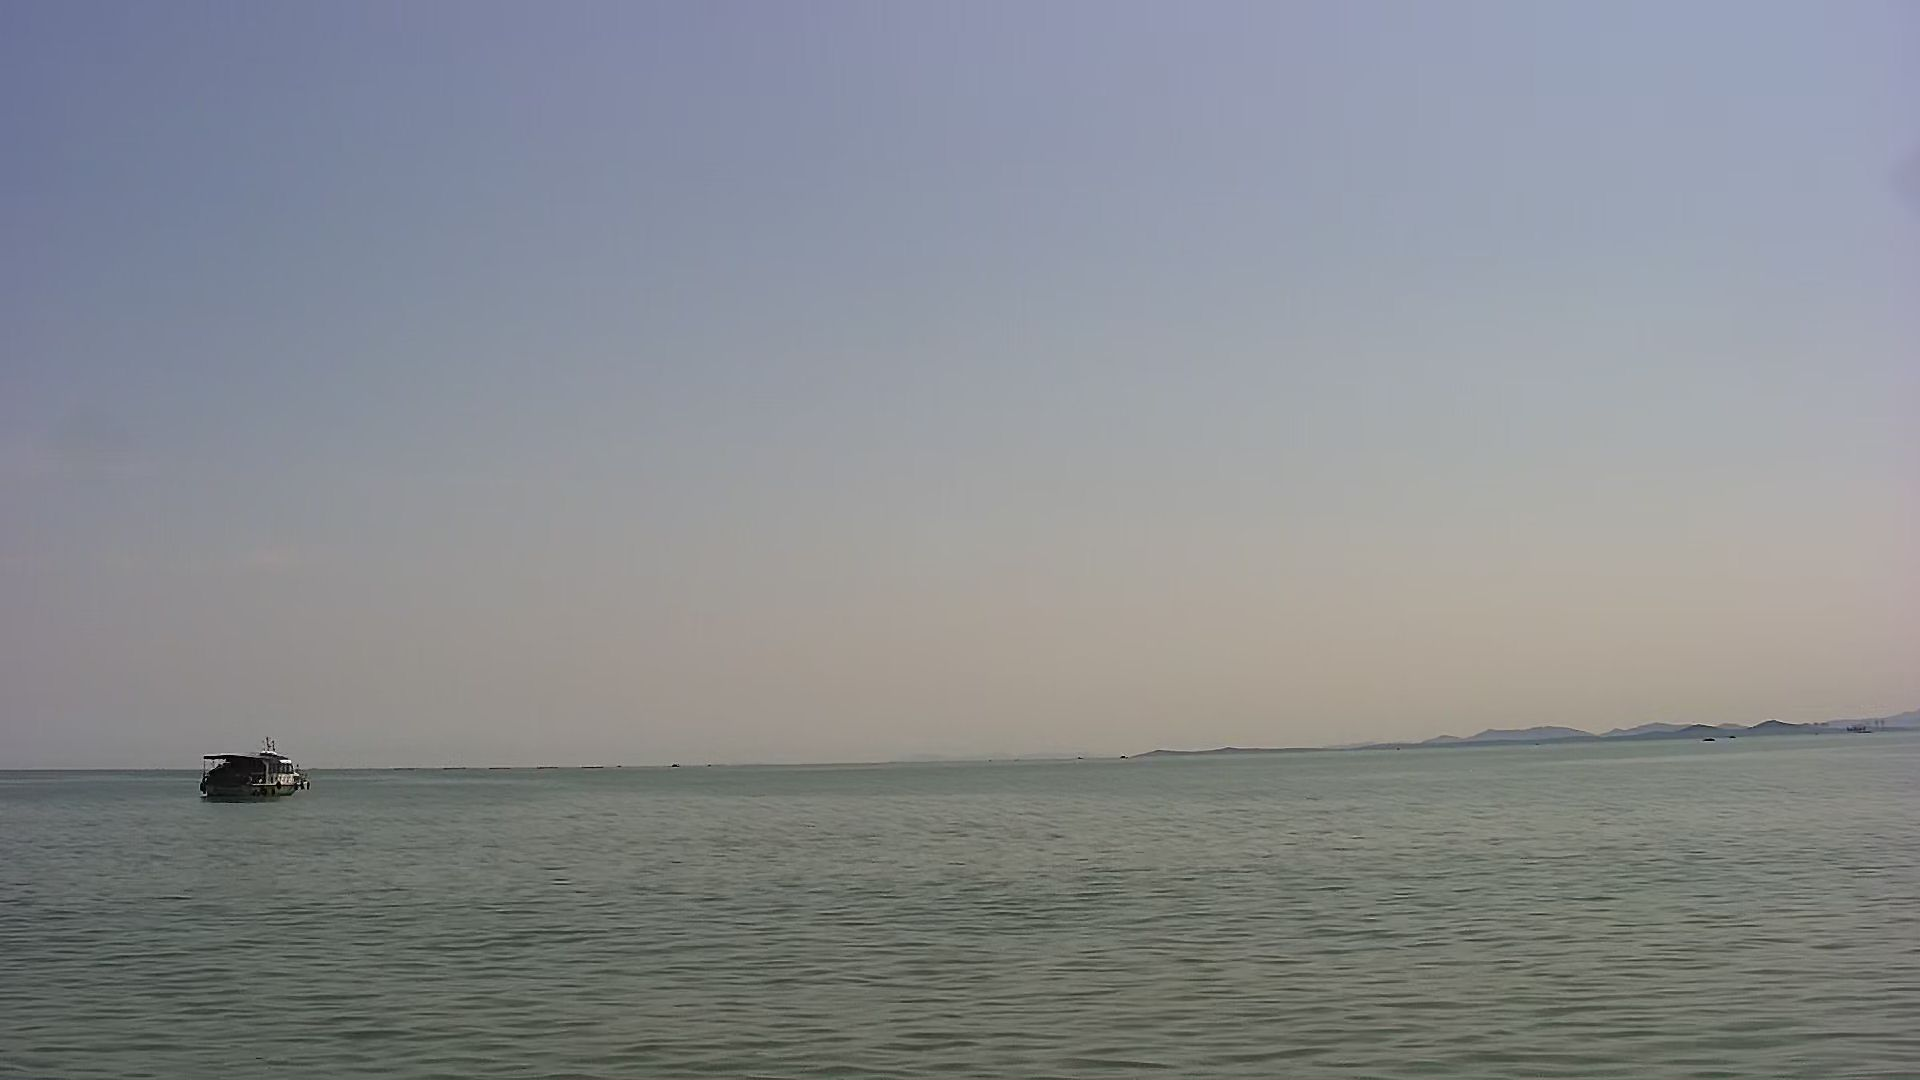ship: (193, 737, 313, 804)
